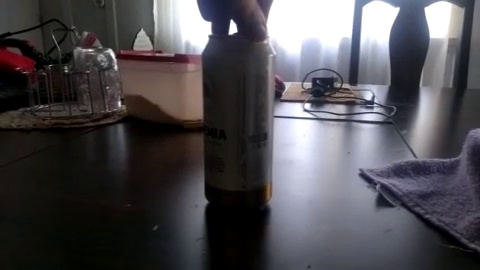bohemia: (185, 28, 289, 219)
